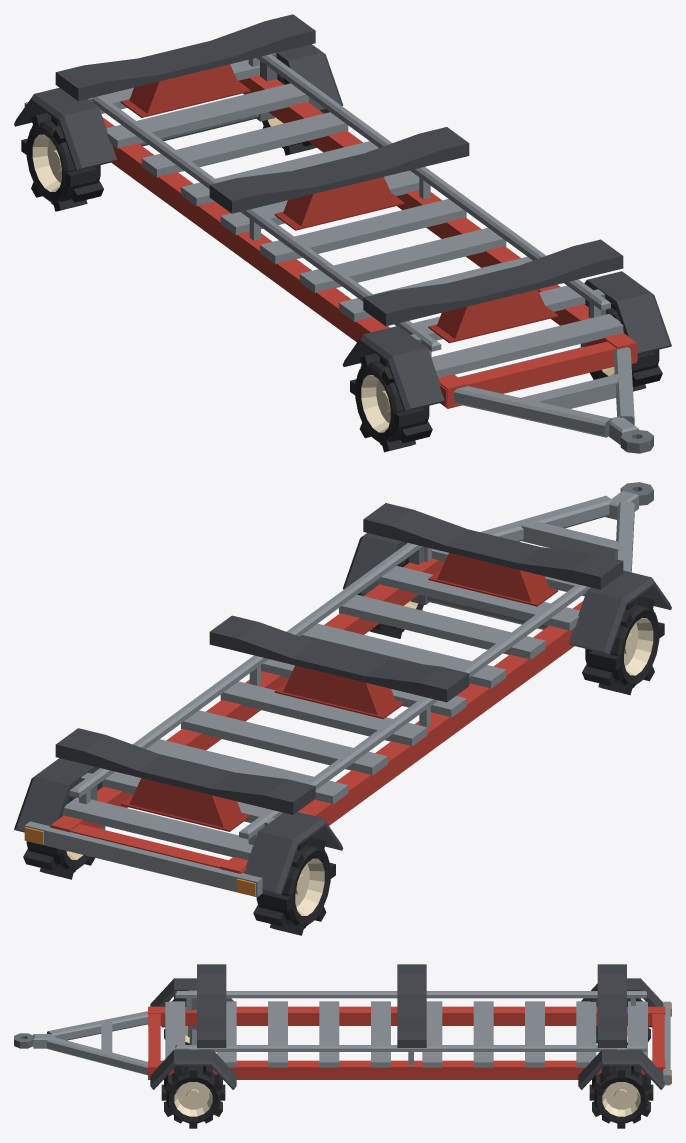
The model's file is FMS_Mach_Trailer_Header.fbx.
The picture shows the model from 3 angles, top to bottom: view 1: azimuth 30°, elevation 25°; view 2: azimuth 150°, elevation 25°; view 3: azimuth 270°, elevation 25°; orthographic projection. The views are drawn at different scales.
Parts seen in each view (by area): view 1: Chassis, Wheel_FR, Wheel_RR, Wheel_FL; view 2: Chassis, Wheel_FR, Wheel_RR, Wheel_RL; view 3: Chassis, Wheel_FL, Wheel_RL.
Boxes of the visible parts, x1,y1,x2,y2 form: Chassis: (14, 14, 671, 453); Wheel_FR: (350, 353, 432, 452); Wheel_RR: (21, 113, 103, 211); Wheel_FL: (590, 304, 662, 391); Chassis: (14, 482, 671, 897); Wheel_FR: (582, 596, 664, 695); Wheel_RR: (253, 837, 335, 935); Wheel_RL: (23, 795, 94, 879); Chassis: (14, 964, 671, 1089); Wheel_FL: (161, 1066, 225, 1128); Wheel_RL: (589, 1066, 653, 1128).
Size of the model in its own units: 2.2 by 1.02 by 7.23.
